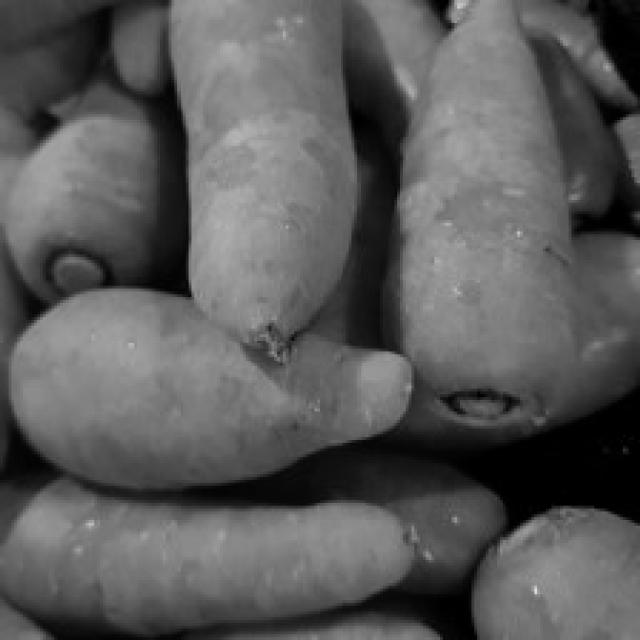Fresh_Carrot: (8, 293, 416, 496), (384, 0, 577, 428), (168, 0, 349, 342)
